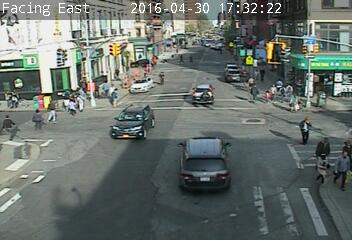neg: (225, 107, 259, 151), (140, 144, 165, 178), (101, 117, 125, 150), (130, 12, 154, 44), (315, 41, 339, 73), (295, 9, 317, 39), (199, 10, 221, 39), (34, 163, 55, 190), (155, 24, 176, 51), (255, 33, 275, 61), (4, 164, 23, 188), (220, 176, 238, 200), (126, 186, 143, 209), (174, 108, 191, 130), (229, 67, 245, 88), (239, 24, 254, 44), (202, 85, 216, 103), (185, 134, 198, 151), (334, 10, 347, 27), (179, 22, 191, 39), (89, 2, 101, 18), (118, 10, 130, 25), (137, 77, 143, 86)
pos: (294, 111, 323, 149), (329, 149, 351, 189), (311, 149, 336, 183), (313, 131, 335, 161), (107, 85, 125, 110), (43, 99, 61, 122), (28, 107, 45, 129), (287, 91, 304, 113), (63, 94, 79, 116), (255, 65, 269, 83), (250, 83, 263, 100), (267, 81, 280, 98), (155, 68, 167, 85), (8, 93, 20, 109), (275, 77, 287, 93), (284, 82, 296, 98), (176, 51, 187, 66), (216, 44, 227, 58), (247, 76, 257, 90), (188, 54, 197, 66), (263, 90, 272, 102)
